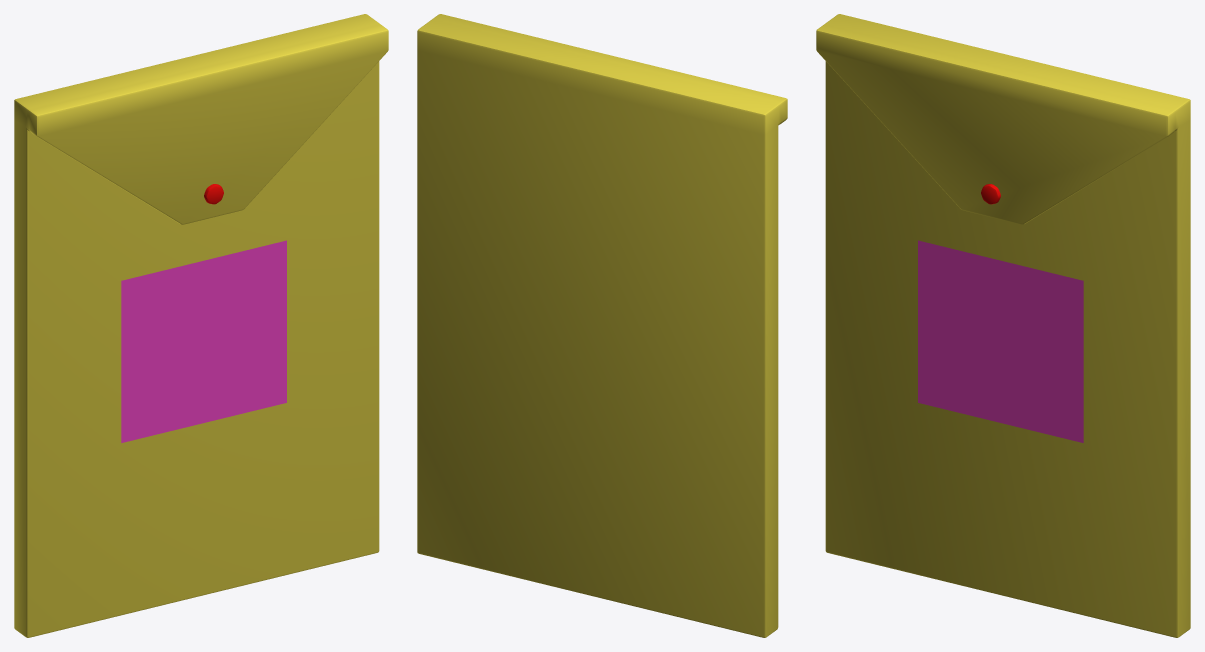
The model's file is document_packet.glb.
3 views of the same model, side by side, from view 1: azimuth 30°, elevation 25°; view 2: azimuth 150°, elevation 25°; view 3: azimuth 330°, elevation 25° (orthographic).
Visible parts, largest first — view 1: Document.Packet, Document.Packet.001; view 2: Document.Packet; view 3: Document.Packet, Document.Packet.001.
Boxes of the visible parts, x1,y1,x2,y2 form: Document.Packet: (14,14,388,637); Document.Packet.001: (121,240,286,442); Document.Packet: (417,14,787,637); Document.Packet: (816,14,1190,637); Document.Packet.001: (918,240,1083,442).
Size of the model in its own units: 0.5631 by 0.8082 by 0.0718.
